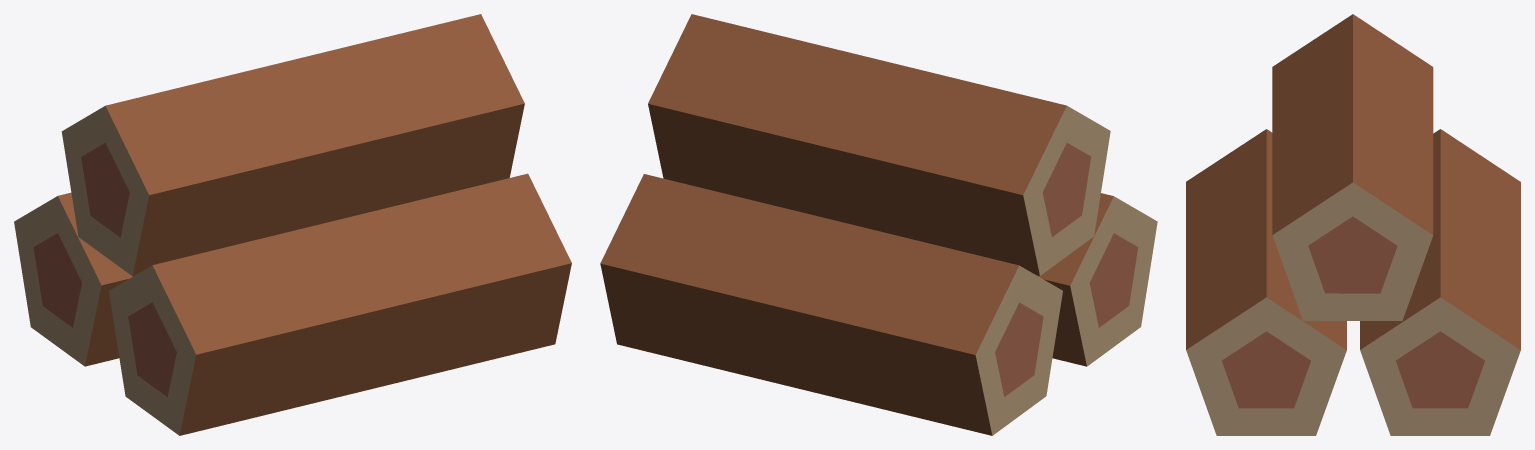
The model's file is TB_Prop_LumberPile_Small_B.FBX.
3 views of the same model, side by side, from view 1: azimuth 30°, elevation 25°; view 2: azimuth 150°, elevation 25°; view 3: azimuth 270°, elevation 25° (orthographic). The views are drawn at different scales.
Visible parts, largest first — view 1: TB_Prop_LumberPile_Small_B; view 2: TB_Prop_LumberPile_Small_B; view 3: TB_Prop_LumberPile_Small_B.
Part boxes in pixels (left/top/right/bottom): TB_Prop_LumberPile_Small_B: left=14, top=14, right=571, bottom=435; TB_Prop_LumberPile_Small_B: left=600, top=14, right=1157, bottom=435; TB_Prop_LumberPile_Small_B: left=1186, top=14, right=1520, bottom=435.
Size of the model in its own units: 1.65 by 1.16 by 1.39.
